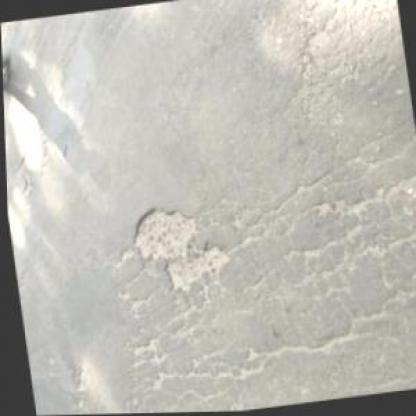pothole: (122, 197, 233, 299)
